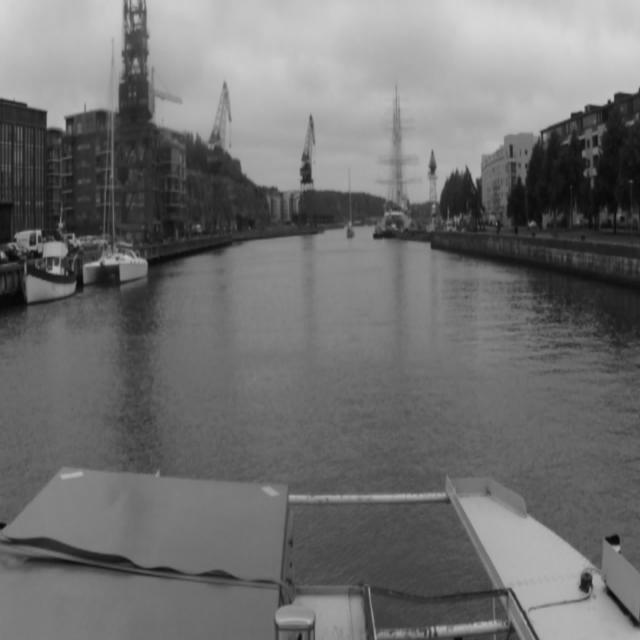ship: (83, 37, 147, 286), (377, 83, 421, 225), (20, 238, 76, 304), (344, 166, 354, 236)
